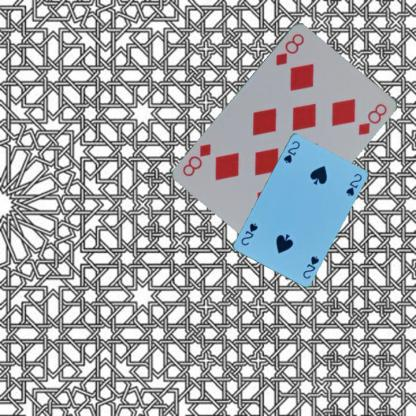2s: (300, 253, 320, 280), (281, 138, 301, 164)
8d: (272, 30, 306, 66)
